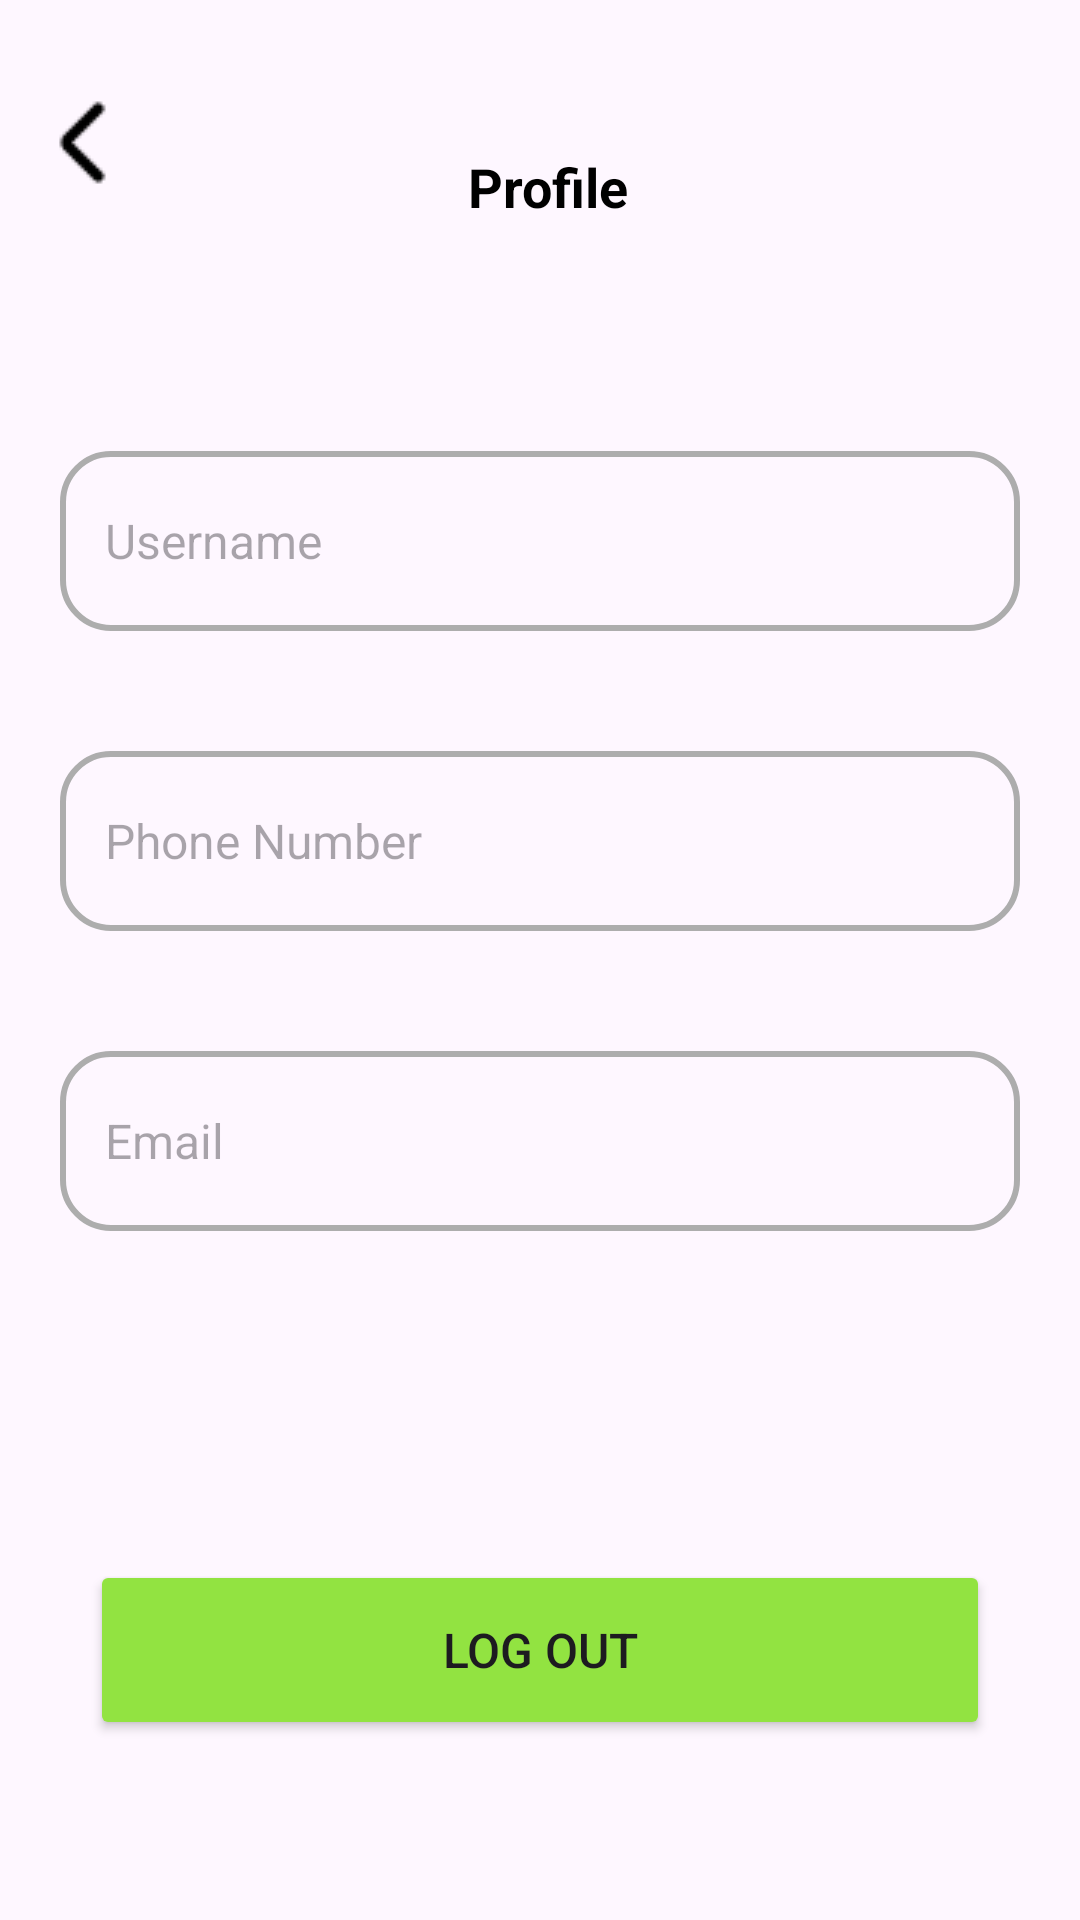

Icon click points for this 1080px x 1920px phone screenshot, format point (x, y):
back arrow: point (82, 142)
